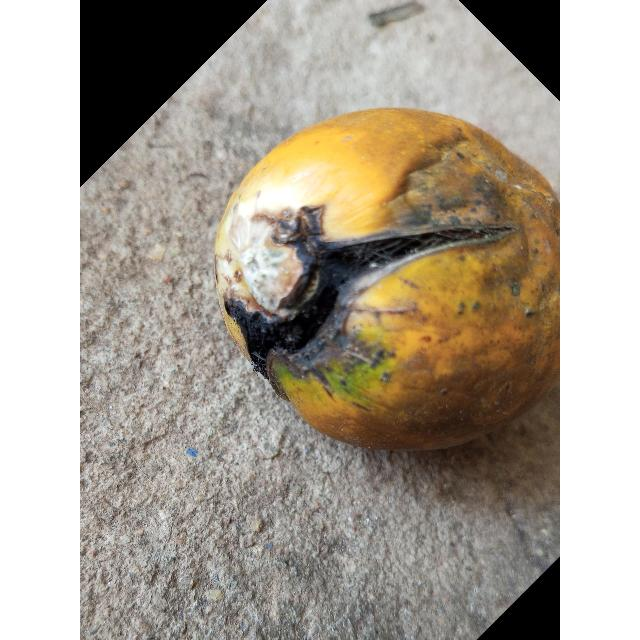damaged: (212, 108, 560, 454)
